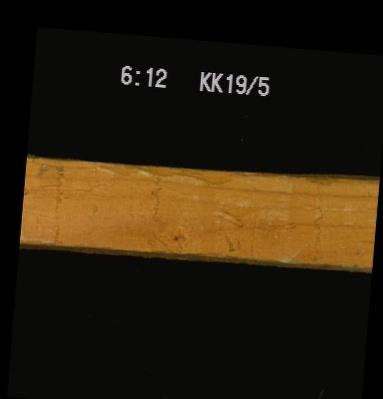small_knot: (167, 230, 182, 245)
wave: (88, 165, 238, 186)
